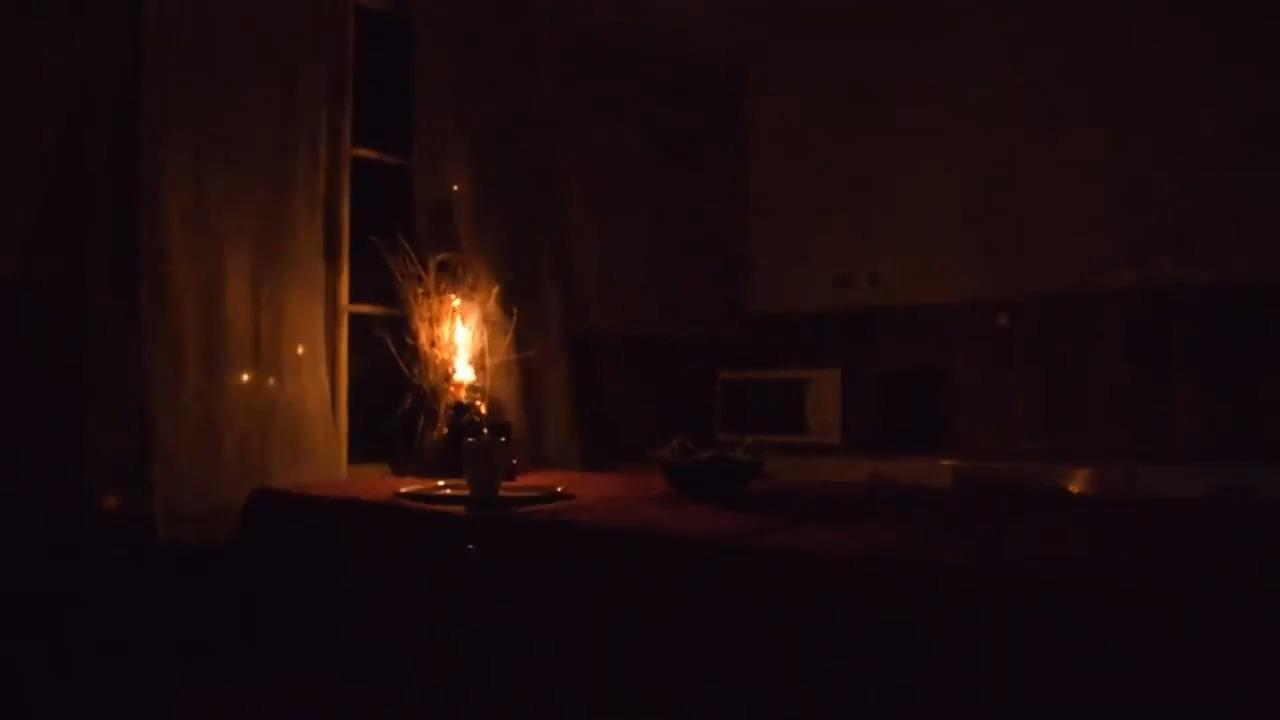fire: (426, 289, 507, 402)
